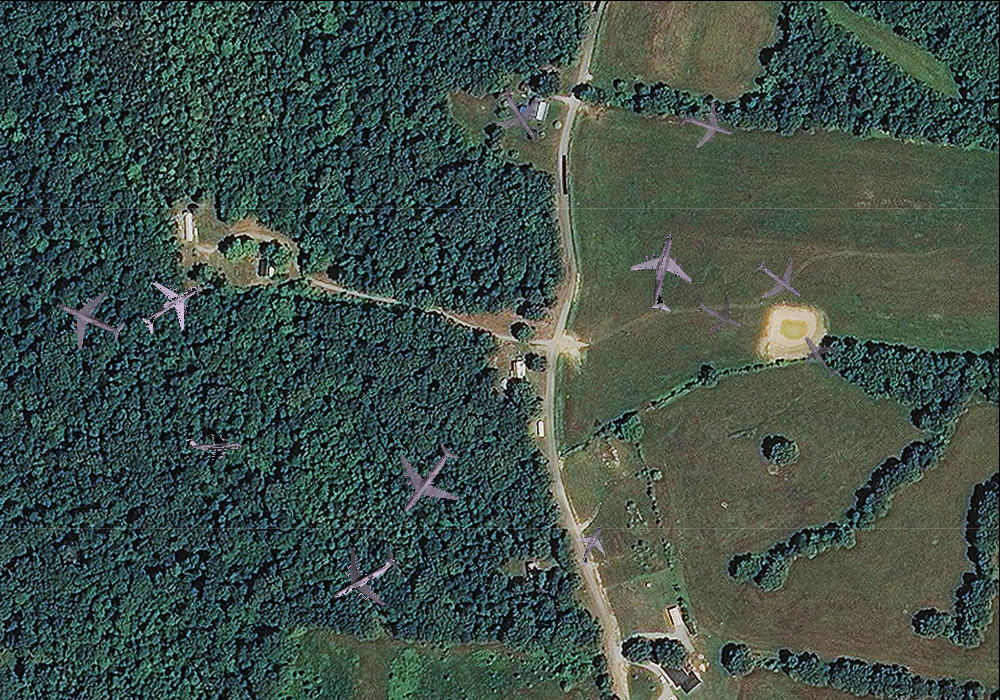plane: (374, 426, 480, 533), (315, 529, 413, 626), (620, 225, 709, 318), (126, 261, 217, 351), (44, 274, 135, 362), (481, 74, 557, 151), (742, 243, 816, 316), (686, 280, 753, 347), (673, 92, 741, 158), (788, 323, 853, 389), (564, 517, 621, 575), (184, 418, 243, 468)
